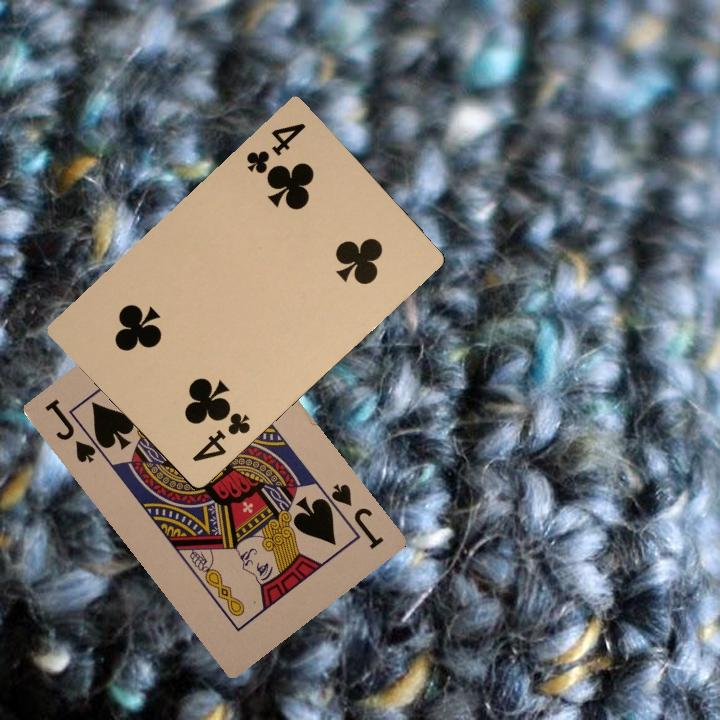4c: (242, 118, 309, 178), (188, 405, 253, 465)
Js: (38, 394, 108, 466), (320, 479, 386, 552)
